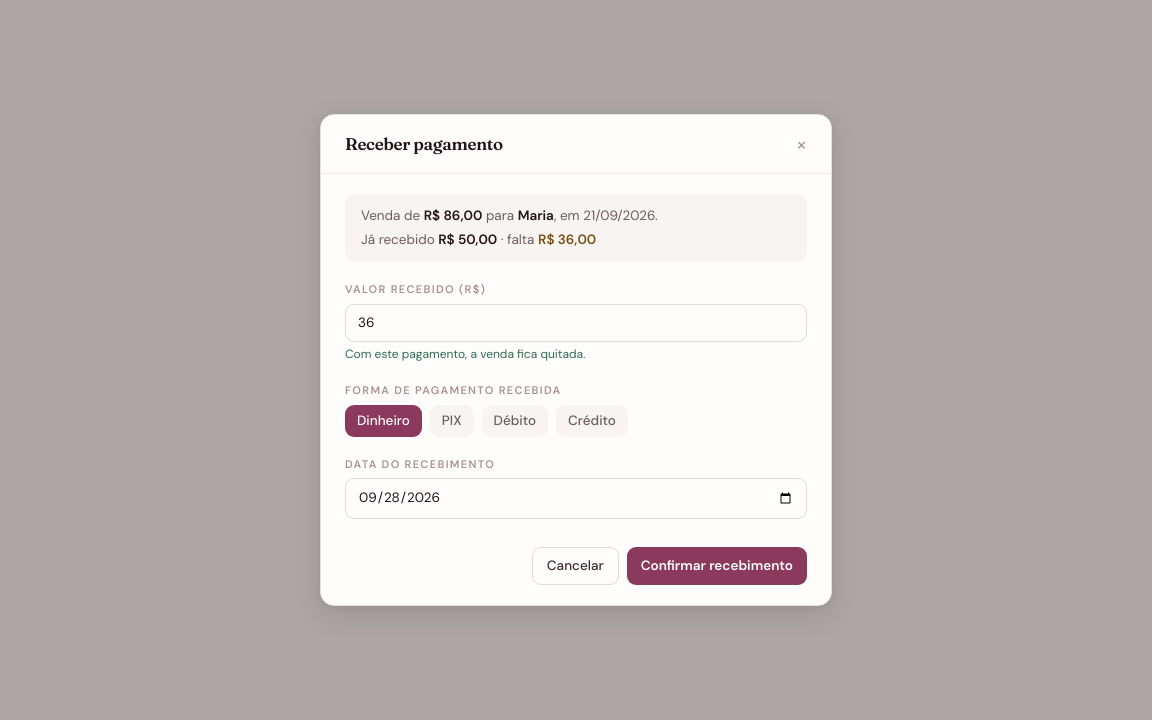
it: Receber pagamento › should_show_the_refusal_sent_by_the_app
The width and height of the screenshot is (1152, 720).
Click the button "Confirmar recebimento".
click(717, 566)  # box 627,546 -> 807,585
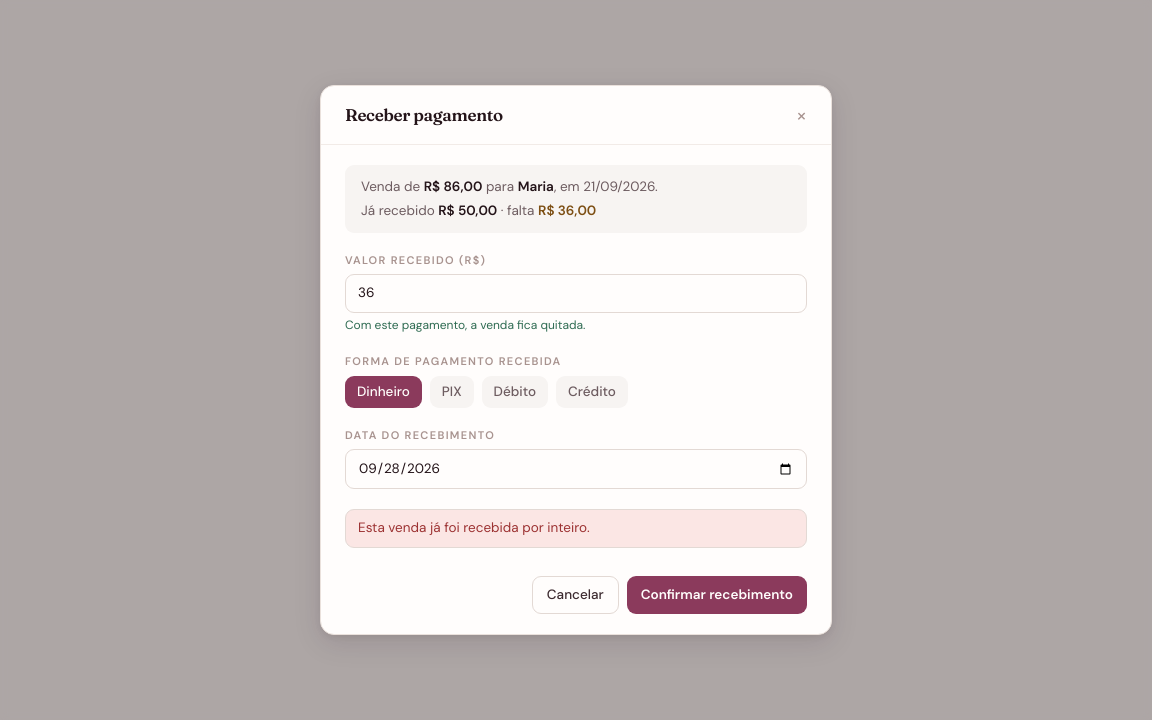
Now the text "Esta venda já foi recebida por inteiro." is shown, box 345,509 -> 807,548
